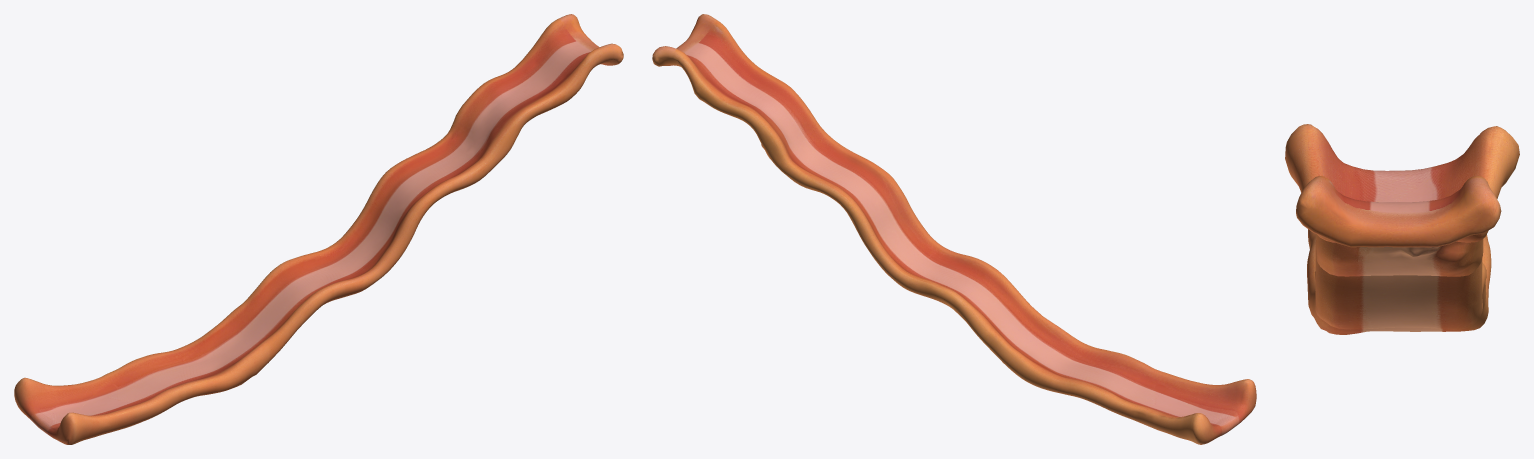
File: Bacon_Slide_New.glb
3 renders of one model, left to right at view 1: azimuth 30°, elevation 25°; view 2: azimuth 150°, elevation 25°; view 3: azimuth 270°, elevation 25°, orthographic. The views are drawn at different scales.
Parts seen in each view (by area): view 1: Mesh_0; view 2: Mesh_0; view 3: Mesh_0.
Boxes of the visible parts, box(x1,y1,x2,y2) form: Mesh_0: box(14, 14, 623, 444); Mesh_0: box(652, 14, 1256, 444); Mesh_0: box(1285, 124, 1519, 334).
Bounding box in the file's own units: 21.65 × 10 × 3.95.
Materials: 1 (1 with a texture image).
